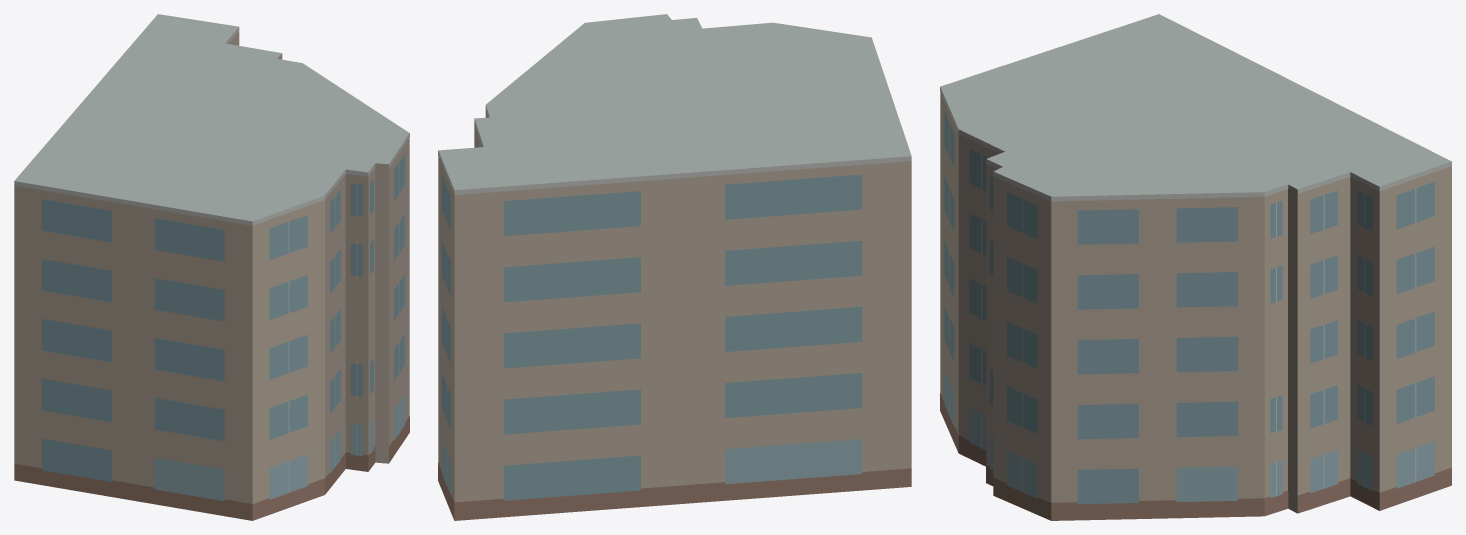
Rendered from survey-upis-32740689.glb.
The picture shows the model from 3 angles, left to right: view 1: azimuth 30°, elevation 25°; view 2: azimuth 150°, elevation 25°; view 3: azimuth 270°, elevation 25°; orthographic projection. The views are drawn at different scales.
Visible parts, largest first — view 1: survey-upis-32740689.tmp; view 2: survey-upis-32740689.tmp; view 3: survey-upis-32740689.tmp.
Part boxes in pixels (x1,y1,x2,y2): survey-upis-32740689.tmp: (14,14,409,520); survey-upis-32740689.tmp: (438,14,911,520); survey-upis-32740689.tmp: (940,14,1451,520).
Bounding box in the file's own units: 20.31 × 16.8 × 24.04.
